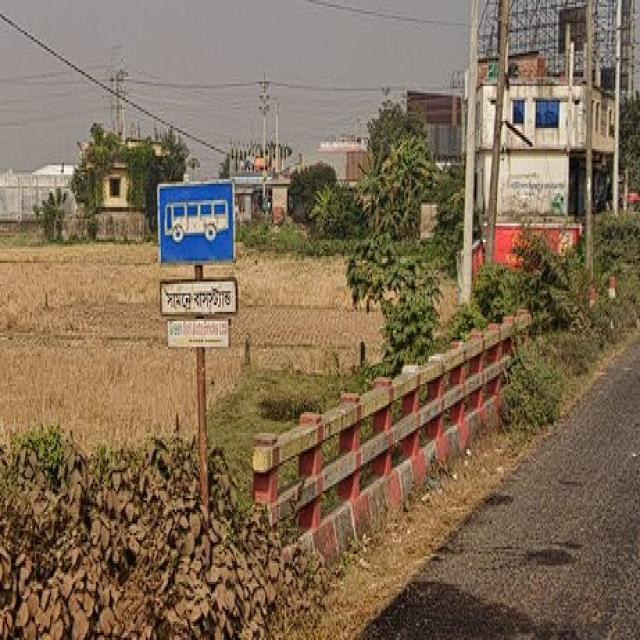Ahead-the-bus-station: (152, 179, 246, 316)
